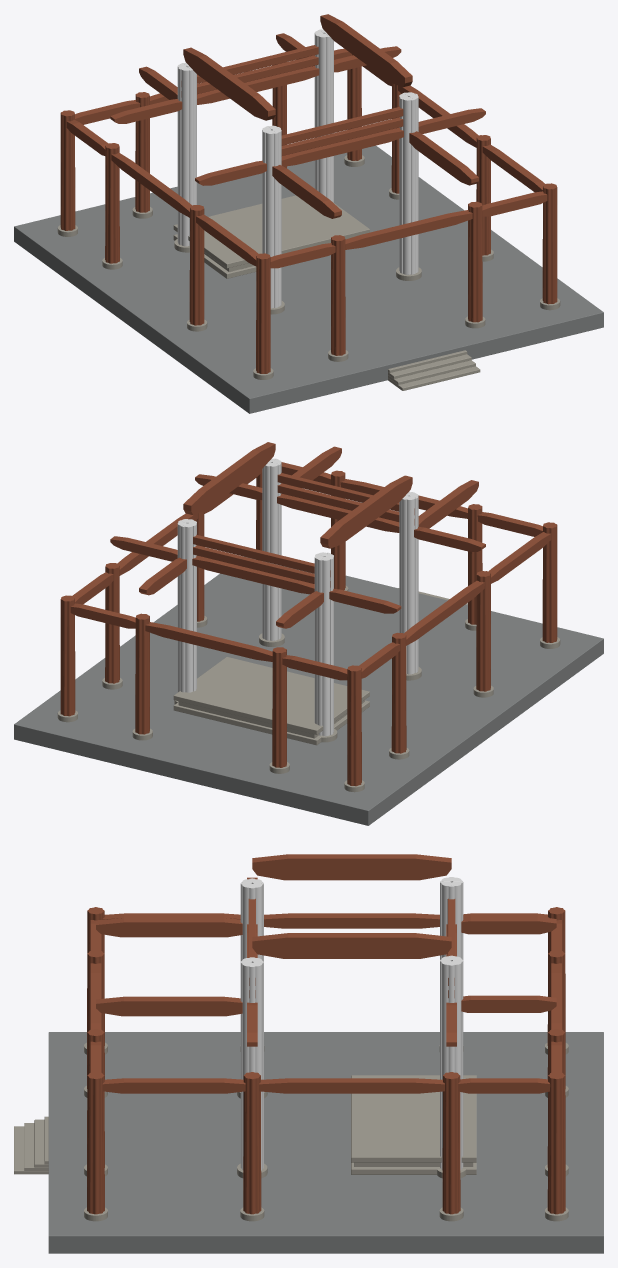
File: baoguosi-hall-stage01-column-grid.fbx
3 renders of one model, top to bottom at view 1: azimuth 30°, elevation 25°; view 2: azimuth 150°, elevation 25°; view 3: azimuth 270°, elevation 25°, orthographic. The views are drawn at different scales.
Parts seen in each view (by area): view 1: 台基_参考平面边界, 佛坛_须弥座轮廓.002, 前三椽栿_中三椽栿_后乳栿_11, 前三椽栿_中三椽栿_后乳栿_21, 檐柱_30, 檐柱_00, 檐柱_03, 檐柱_20, 檐柱_10, 檐柱_01, 檐柱_02, 横向阑额_10 (+40 smaller); view 2: 台基_参考平面边界, 佛坛_须弥座轮廓.002, 前三椽栿_中三椽栿_后乳栿_11, 前三椽栿_中三椽栿_后乳栿_21, 檐柱_33, 檐柱_03, 檐柱_00, 檐柱_23, 檐柱_13, 檐柱_02, 横向阑额_13, 檐柱_01 (+43 smaller); view 3: 台基_参考平面边界, 佛坛_须弥座轮廓.002, 前三椽栿_中三椽栿_后乳栿_11, 前三椽栿_中三椽栿_后乳栿_21, 前三椽栿_中三椽栿_后乳栿_20, 山面阑额_31, 前三椽栿_中三椽栿_后乳栿_10, 山面阑额_01, 檐柱_32, 檐柱_31, 檐柱_33, 檐柱_30 (+21 smaller).
Boxes of the visible parts, x1,y1,x2,y2 form: 台基_参考平面边界: (14, 145, 603, 413); 佛坛_须弥座轮廓.002: (173, 195, 369, 268); 前三椽栿_中三椽栿_后乳栿_11: (183, 47, 275, 120); 前三椽栿_中三椽栿_后乳栿_21: (320, 14, 412, 87); 檐柱_30: (542, 183, 557, 304); 檐柱_00: (256, 253, 270, 373); 檐柱_03: (60, 110, 75, 230); 檐柱_20: (468, 201, 482, 322); 檐柱_10: (331, 235, 345, 355); 檐柱_01: (189, 205, 204, 325); 檐柱_02: (105, 143, 119, 263); 横向阑额_10: (345, 210, 472, 249); 台基_参考平面边界: (14, 556, 603, 825); 佛坛_须弥座轮廓.002: (173, 657, 369, 734); 前三椽栿_中三椽栿_后乳栿_11: (320, 475, 412, 548); 前三椽栿_中三椽栿_后乳栿_21: (183, 442, 275, 515); 檐柱_33: (60, 595, 75, 716); 檐柱_03: (347, 665, 361, 786); 檐柱_00: (542, 522, 557, 642); 檐柱_23: (135, 613, 149, 734); 檐柱_13: (272, 647, 286, 767); 檐柱_02: (391, 632, 406, 753); 横向阑额_13: (145, 622, 272, 661); 檐柱_01: (476, 571, 490, 691); 台基_参考平面边界: (48, 1032, 603, 1253); 佛坛_须弥座轮廓.002: (351, 1075, 476, 1162); 前三椽栿_中三椽栿_后乳栿_11: (252, 854, 451, 880); 前三椽栿_中三椽栿_后乳栿_21: (252, 933, 451, 958); 前三椽栿_中三椽栿_后乳栿_20: (96, 996, 242, 1016); 山面阑额_31: (259, 1078, 444, 1093); 前三椽栿_中三椽栿_后乳栿_10: (96, 918, 242, 937); 山面阑额_01: (264, 913, 439, 928); 檐柱_32: (442, 1072, 460, 1214); 檐柱_31: (243, 1072, 261, 1214); 檐柱_33: (547, 1072, 565, 1214); 檐柱_30: (87, 1072, 104, 1214).
Bounding box in the file's own units: 14.6 × 8.56 × 17.85.
